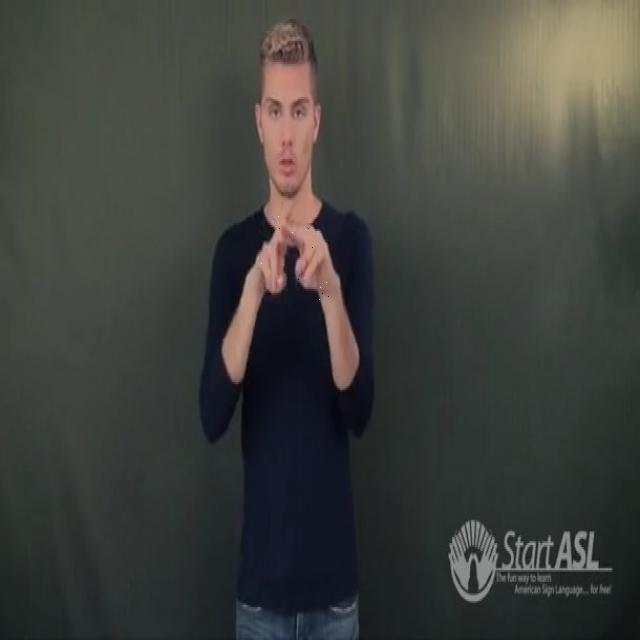salt: (246, 216, 338, 300)
